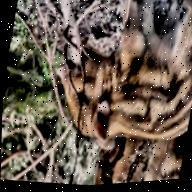boar: (42, 0, 192, 166)
